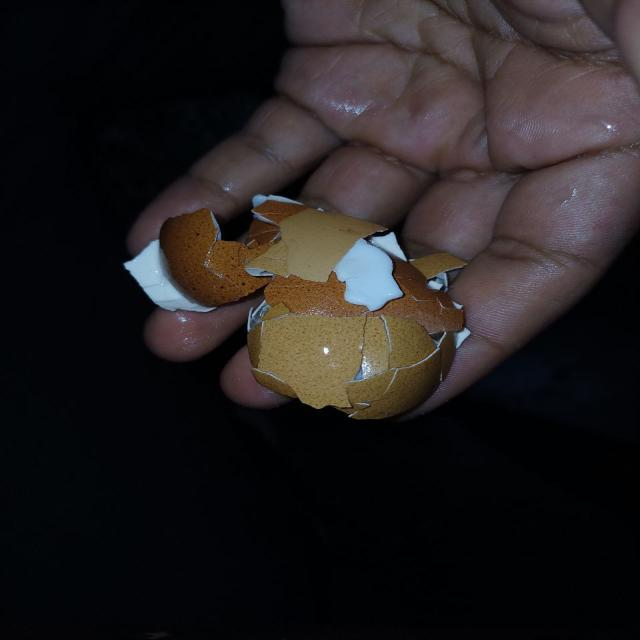organic: (123, 195, 476, 420)
